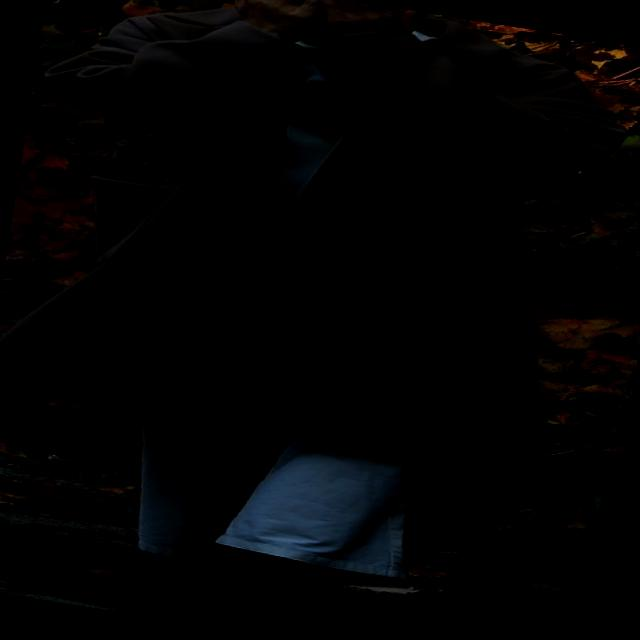coat: (0, 0, 636, 485)
cottonpants: (120, 221, 467, 598)
